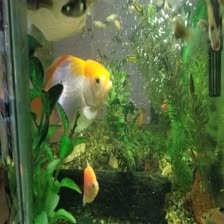Cuezo: (36, 54, 118, 134)
